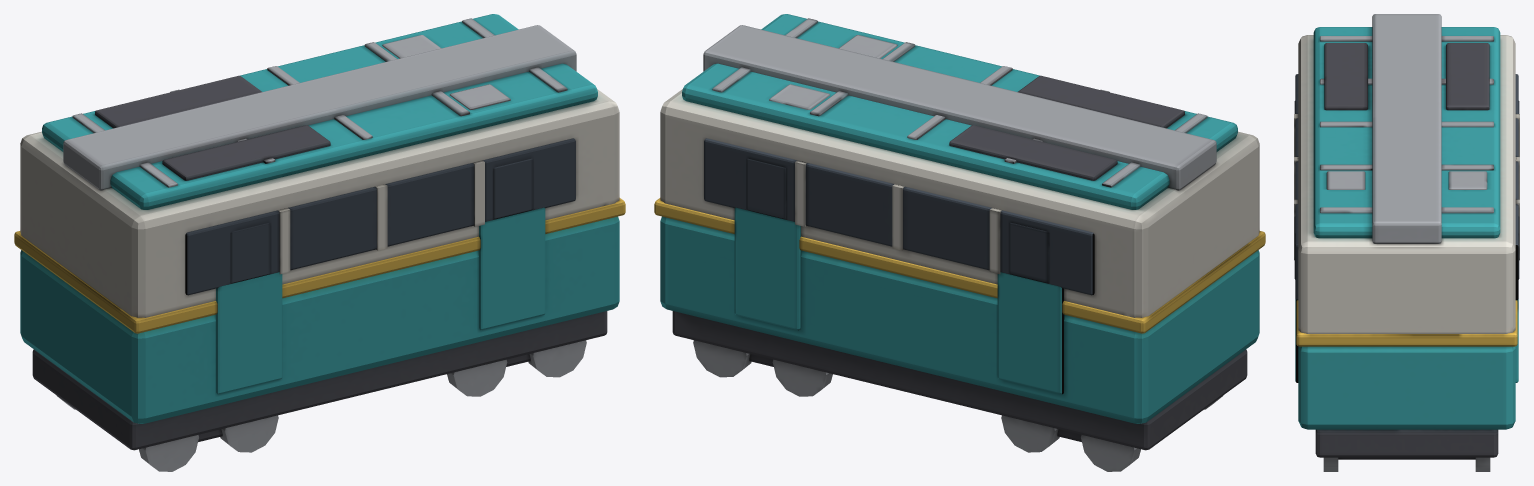
The model's file is train_car.glb.
3 renders of one model, left to right at view 1: azimuth 30°, elevation 25°; view 2: azimuth 150°, elevation 25°; view 3: azimuth 270°, elevation 25°, orthographic. The views are drawn at different scales.
Visible parts, largest first — view 1: train_car; view 2: train_car; view 3: train_car.
Boxes of the visible parts, x1,y1,x2,y2 form: train_car: (14, 14, 625, 471); train_car: (654, 14, 1265, 471); train_car: (1294, 14, 1519, 471).
Bounding box in the file's own units: 4.94 × 2.84 × 2.18.
6 materials, 6 textured.
